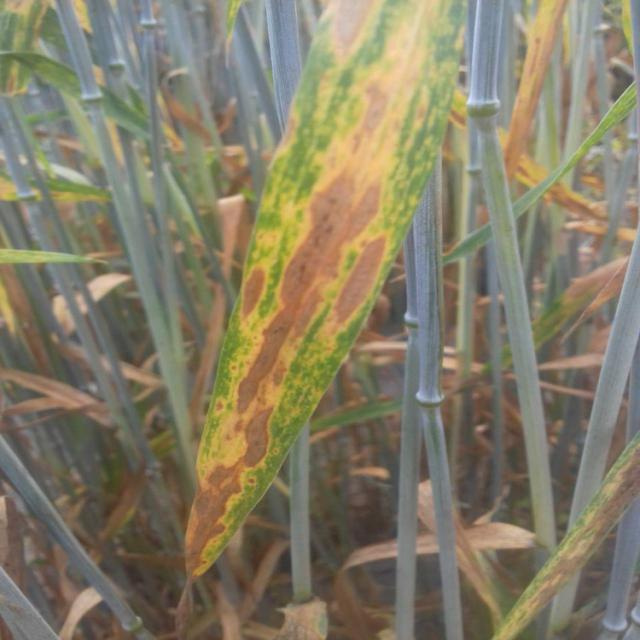wheat-septoria: (187, 0, 467, 574)
